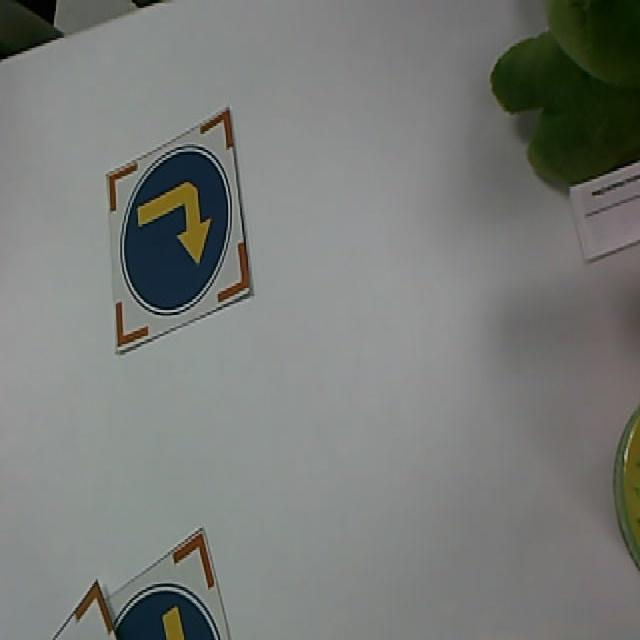turn: (96, 108, 252, 367), (64, 526, 253, 640)
